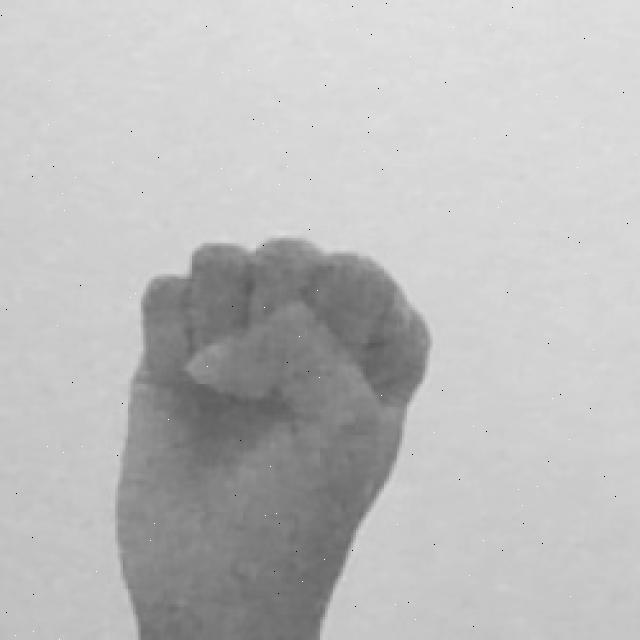S: (109, 229, 442, 640)
